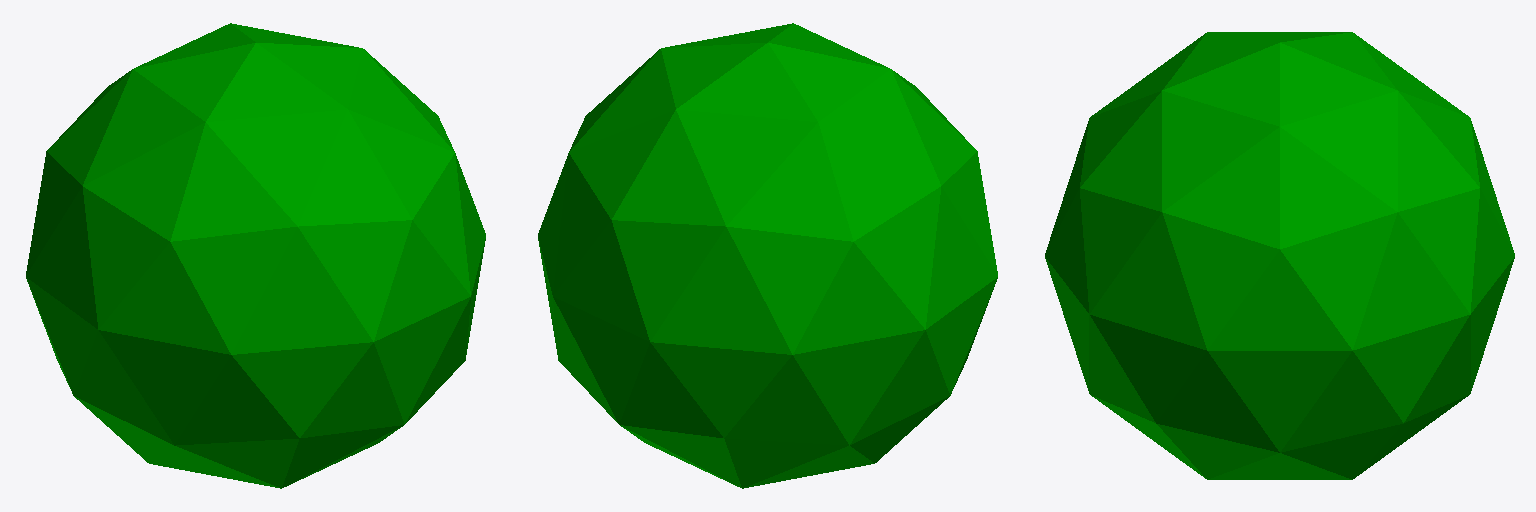
Rendered from emeraude.obj.
3 renders of one model, left to right at view 1: azimuth 30°, elevation 25°; view 2: azimuth 150°, elevation 25°; view 3: azimuth 270°, elevation 25°, orthographic.
Parts seen in each view (by area): view 1: Icosphere_Icosphere.002; view 2: Icosphere_Icosphere.002; view 3: Icosphere_Icosphere.002.
Boxes of the visible parts, <box> form: Icosphere_Icosphere.002: <box>26,23,485,488</box>; Icosphere_Icosphere.002: <box>538,23,997,488</box>; Icosphere_Icosphere.002: <box>1045,32,1514,479</box>.
Size of the model in its own units: 1.9 by 2 by 2.